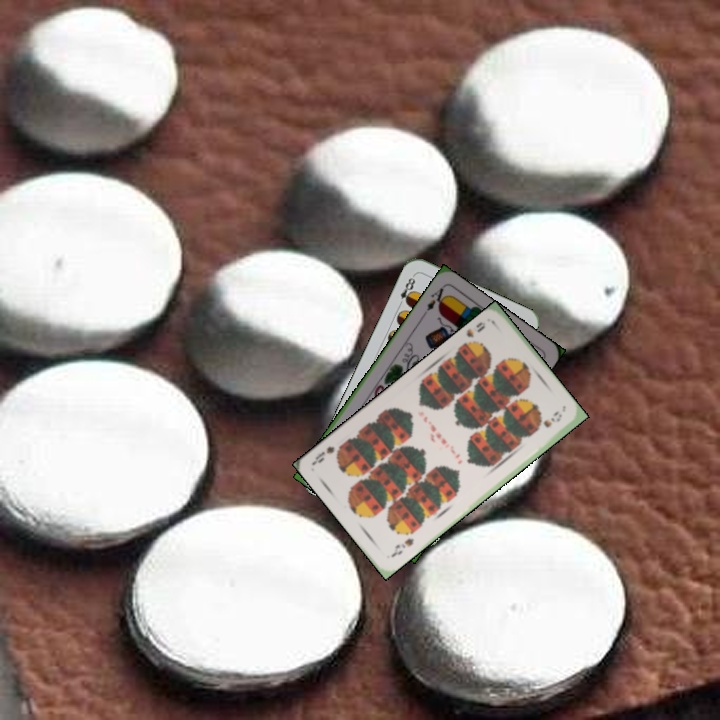E8: (394, 271, 418, 309)
EA: (419, 284, 450, 318)
S9: (458, 318, 488, 350), (387, 534, 417, 560)
